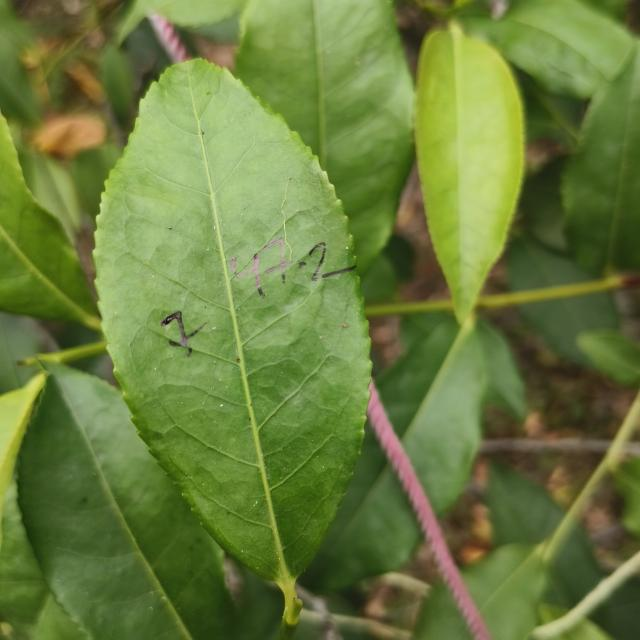Leaf: (94, 59, 370, 584), (18, 363, 234, 640), (235, 0, 413, 273), (415, 23, 524, 323), (376, 318, 488, 514), (0, 115, 100, 329), (308, 424, 421, 589), (562, 38, 640, 274), (458, 0, 634, 99), (462, 544, 548, 640), (519, 292, 619, 367), (485, 462, 564, 546), (17, 146, 81, 243), (505, 232, 592, 291), (547, 526, 603, 606), (413, 582, 472, 640), (101, 45, 133, 123)
